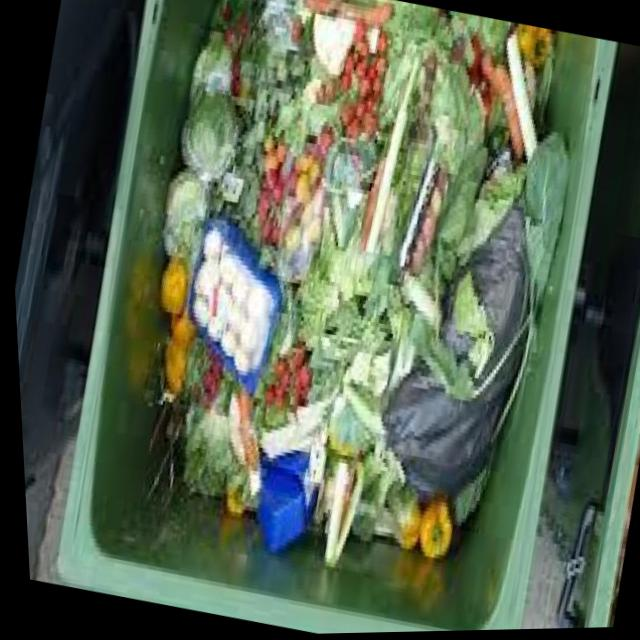Wet: (86, 0, 606, 618), (132, 152, 330, 462), (354, 458, 481, 598)
